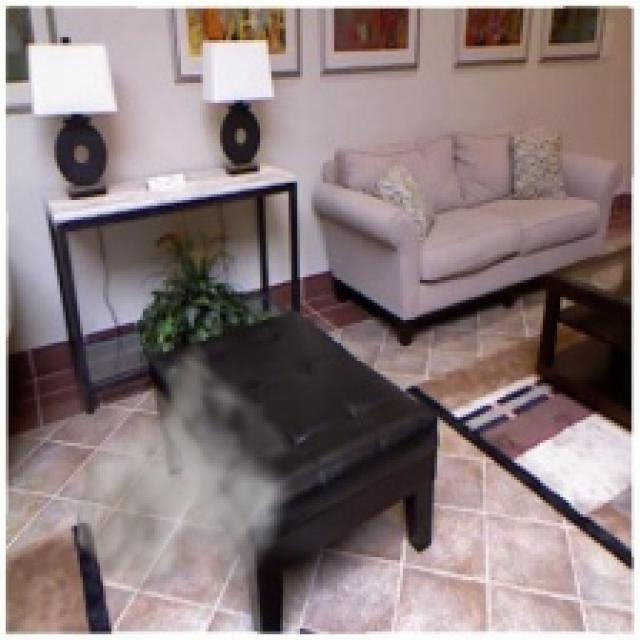smoke: (54, 334, 297, 617)
